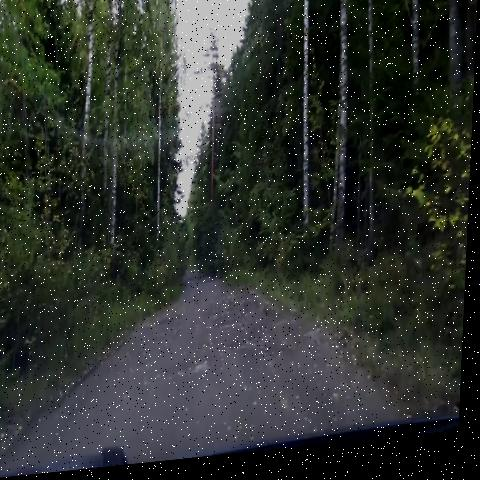pothole: (159, 356, 226, 391), (260, 297, 295, 342), (152, 312, 195, 343), (194, 329, 228, 362), (261, 348, 295, 376), (189, 270, 217, 301), (213, 299, 246, 322), (215, 315, 245, 340), (227, 341, 258, 365)
